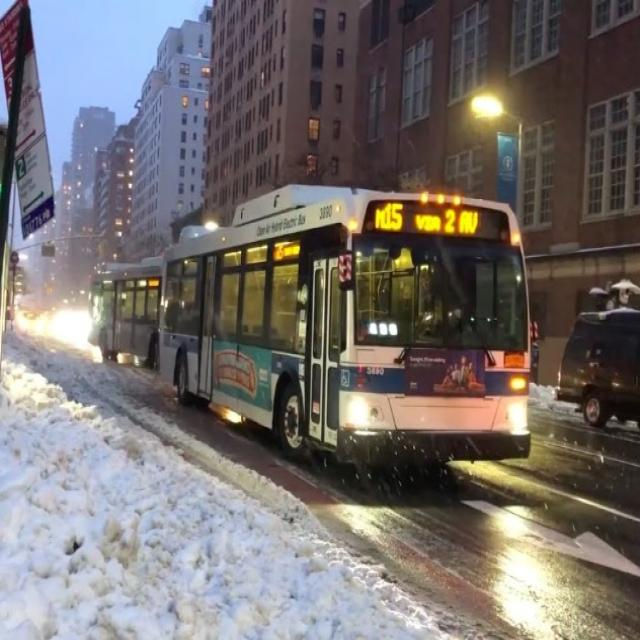bus: (161, 183, 532, 465), (87, 255, 171, 366)
car: (553, 306, 640, 427)
